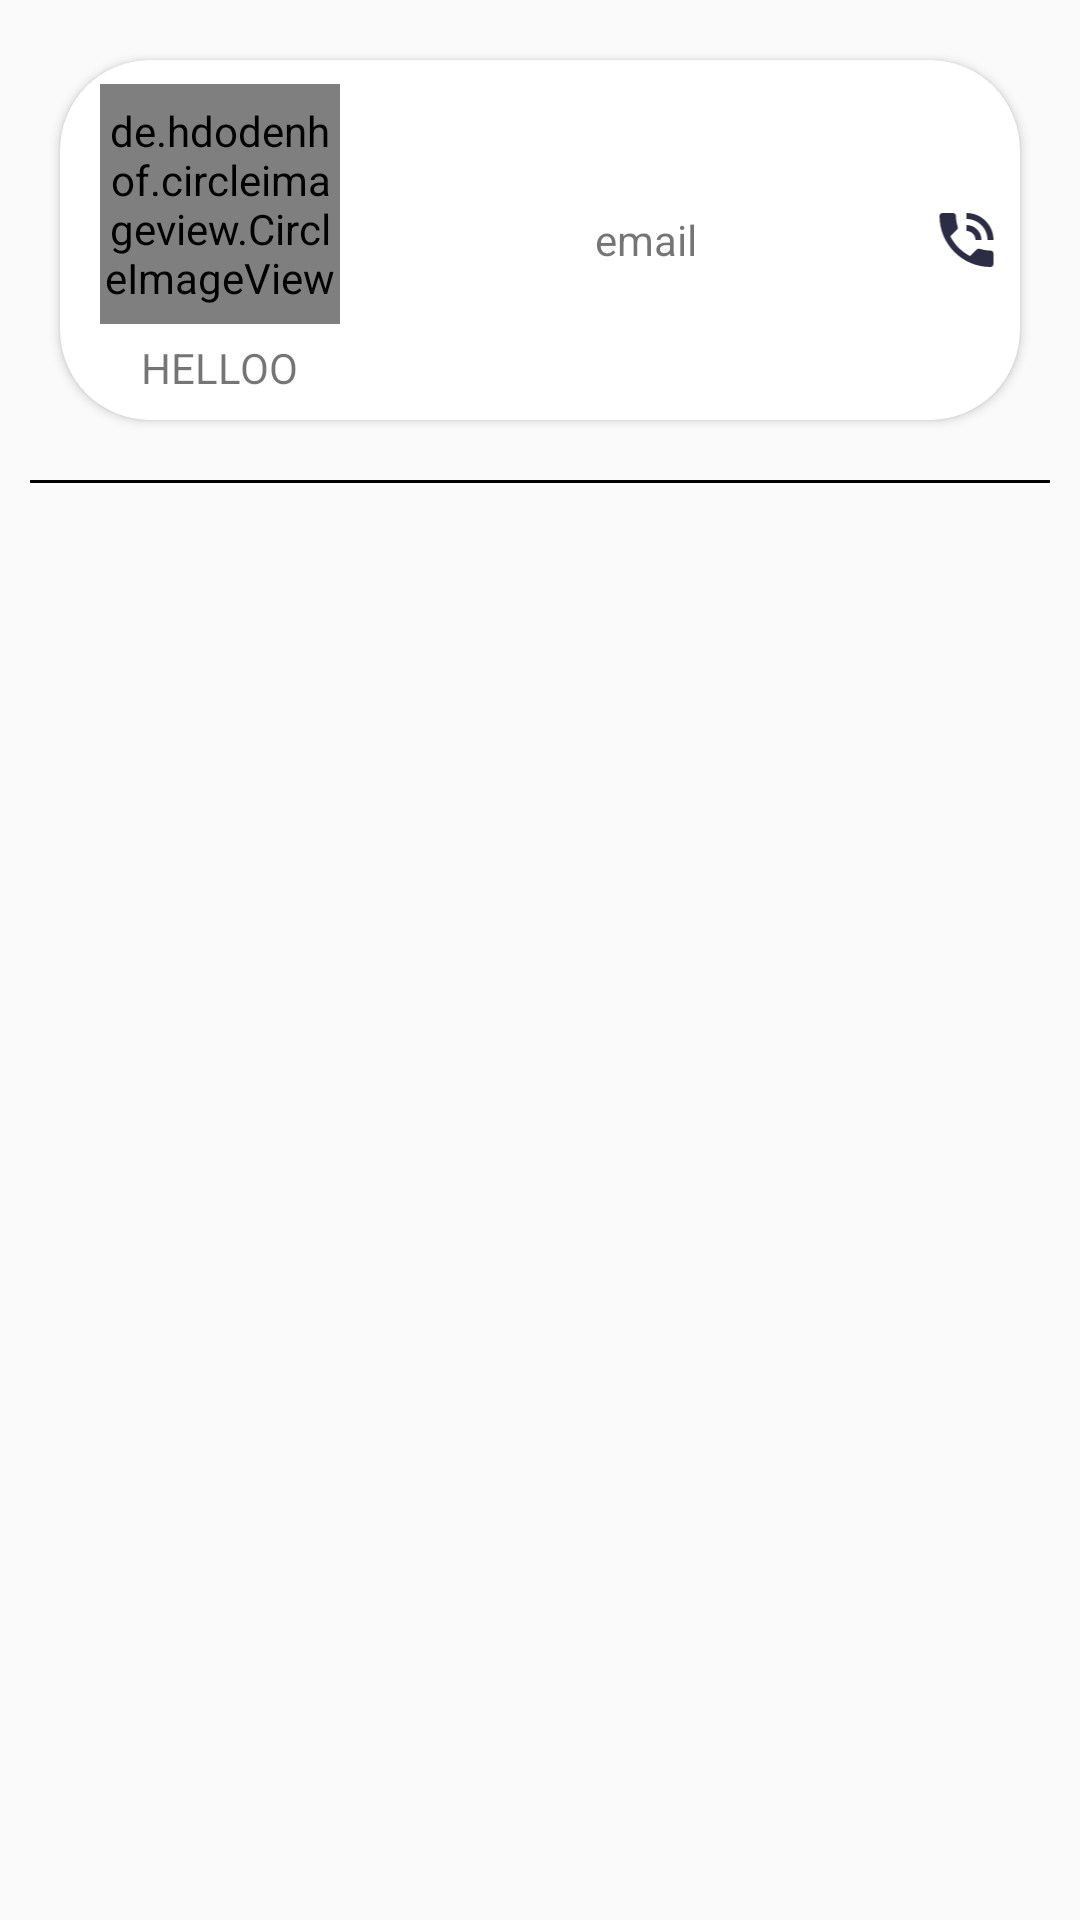

Icons on this 1080*1920 Android screen, each with its box as (x1=x1, y1=y1, x2=x2, y2=y2):
phone in talk: (x1=939, y1=213, x2=994, y2=267)
